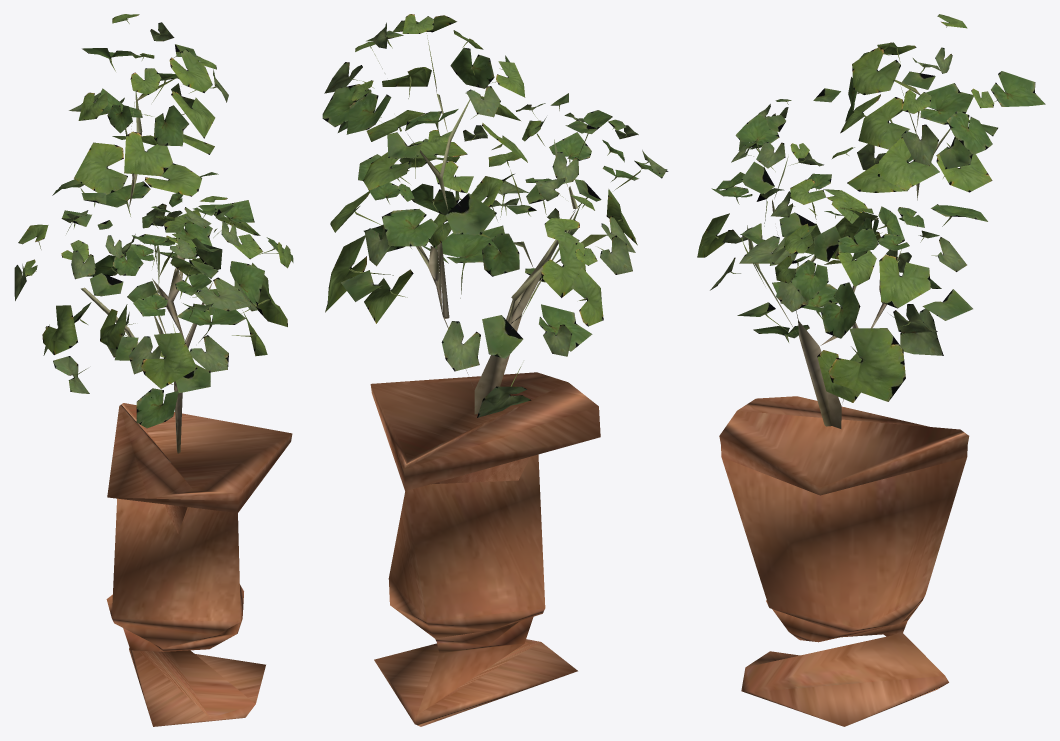
The model's file is potted_plant_01.glb.
3 views of the same model, side by side, from view 1: azimuth 30°, elevation 25°; view 2: azimuth 150°, elevation 25°; view 3: azimuth 270°, elevation 25° (orthographic). The views are drawn at different scales.
Visible parts, largest first — view 1: potted_plant_01_stem, potted_plant_01_leaves; view 2: potted_plant_01_stem, potted_plant_01_leaves; view 3: potted_plant_01_stem, potted_plant_01_leaves.
Boxes of the visible parts, x1,y1,x2,y2 form: potted_plant_01_stem: [81, 92, 292, 726]; potted_plant_01_leaves: [14, 14, 293, 428]; potted_plant_01_stem: [370, 90, 600, 726]; potted_plant_01_leaves: [322, 14, 668, 417]; potted_plant_01_stem: [719, 87, 969, 726]; potted_plant_01_leaves: [697, 14, 1045, 402].
Bounding box in the file's own units: 0.5775 × 1.33 × 0.6293.
2 materials, 2 textured.
